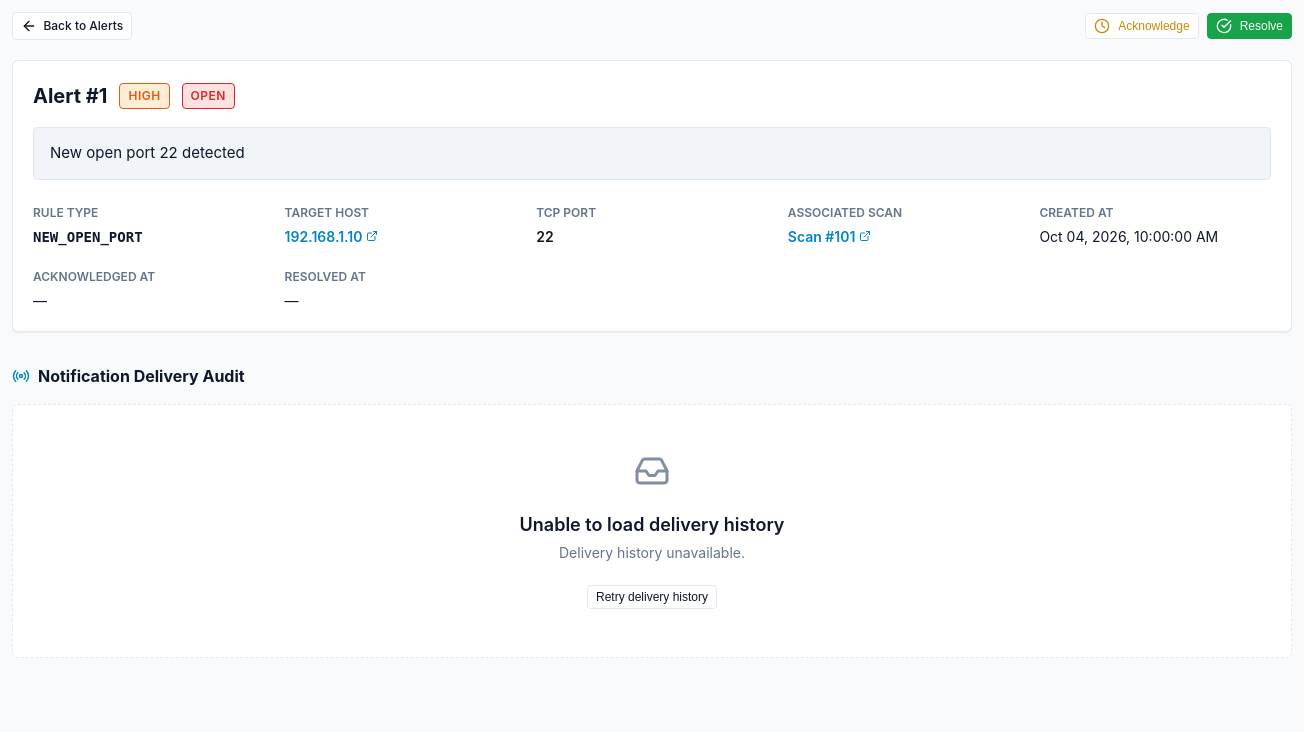
Test: Alerts Page & Triage Flows › shows delivery errors and lets the operator retry
Expected: the heading "Unable to load delivery history" is shown, left=520, top=510, right=784, bottom=538
Click the button "Retry delivery history": (652, 596) left=587, top=584, right=717, bottom=608
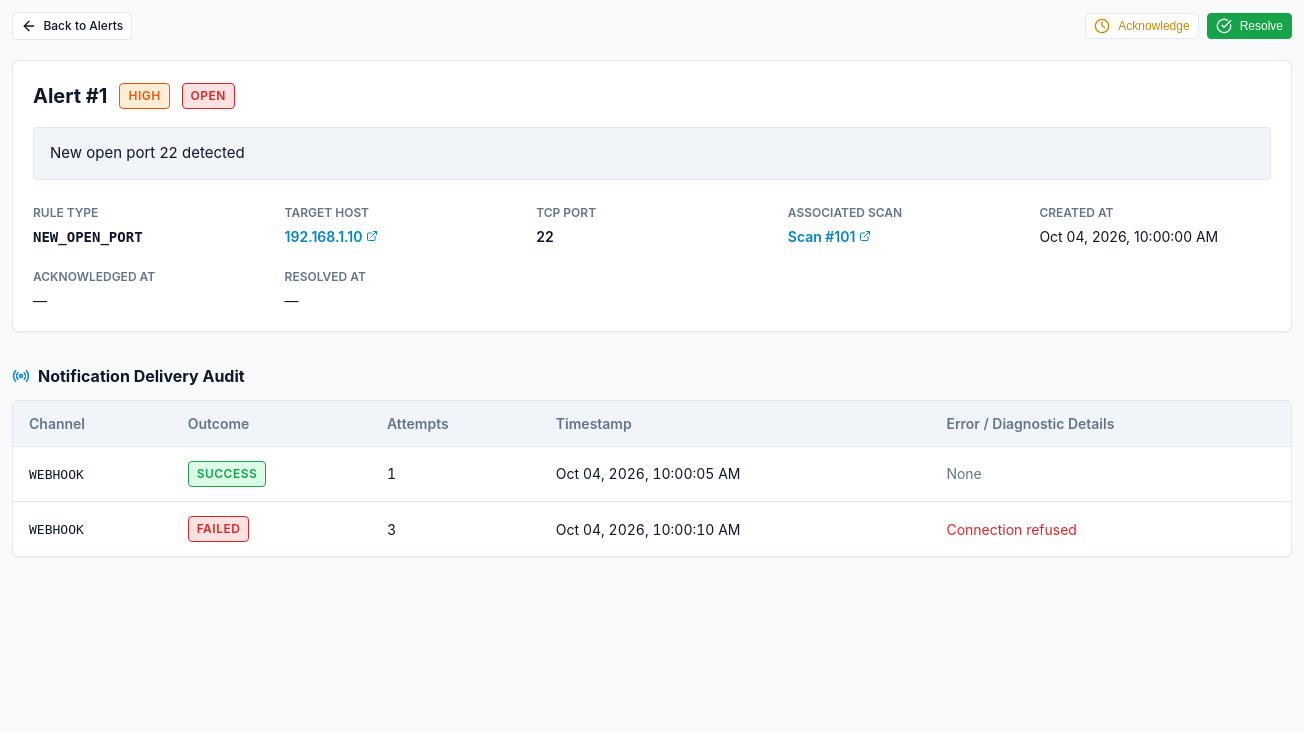
Result: the text "Connection refused" is shown at left=930, top=501, right=1291, bottom=556
Result: the heading "Unable to load delivery history" is gone
